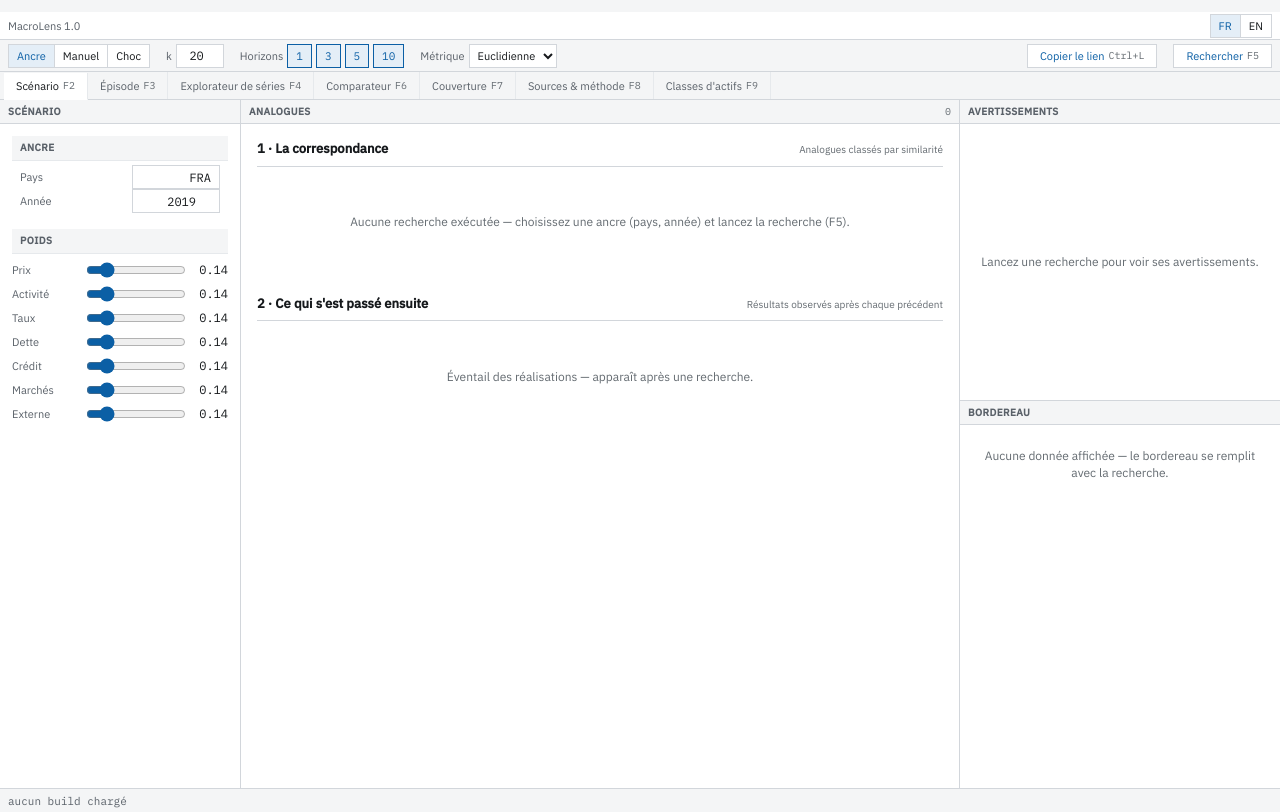
Scenario view — analogs search wiring › runs a search and renders the analogs table with real data
This screenshot has width=1280, height=812.
What coordinates should you click on to do the following:
click the button "Rechercher F5"
I would click on:
 (1223, 56)
Its box is x1=1173 y1=44 x2=1272 y2=68.
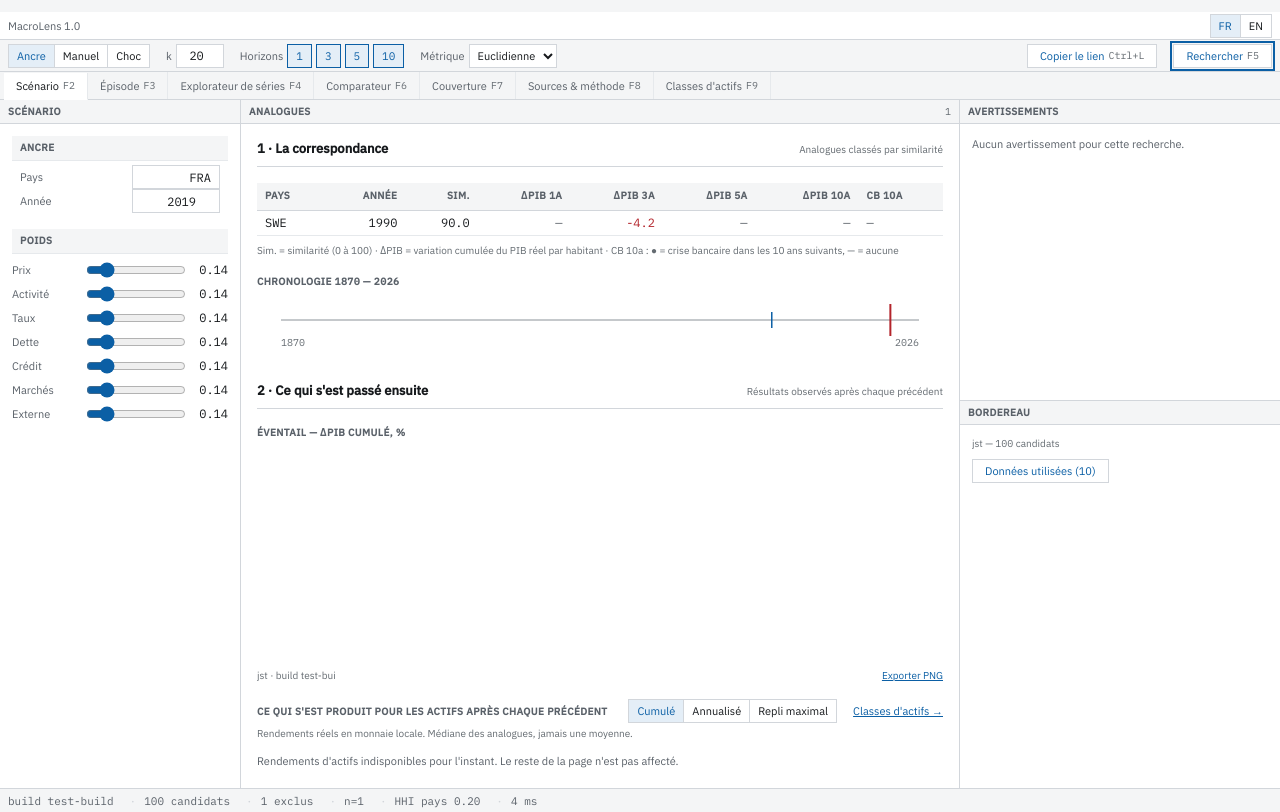
expect the text "SWE" is shown: met, box x1=257 y1=210 x2=323 y2=236
expect the text "1990" is shown: met, box x1=369 y1=215 x2=397 y2=230
expect the message shows "build test-build": met, box x1=8 y1=794 x2=114 y2=808
